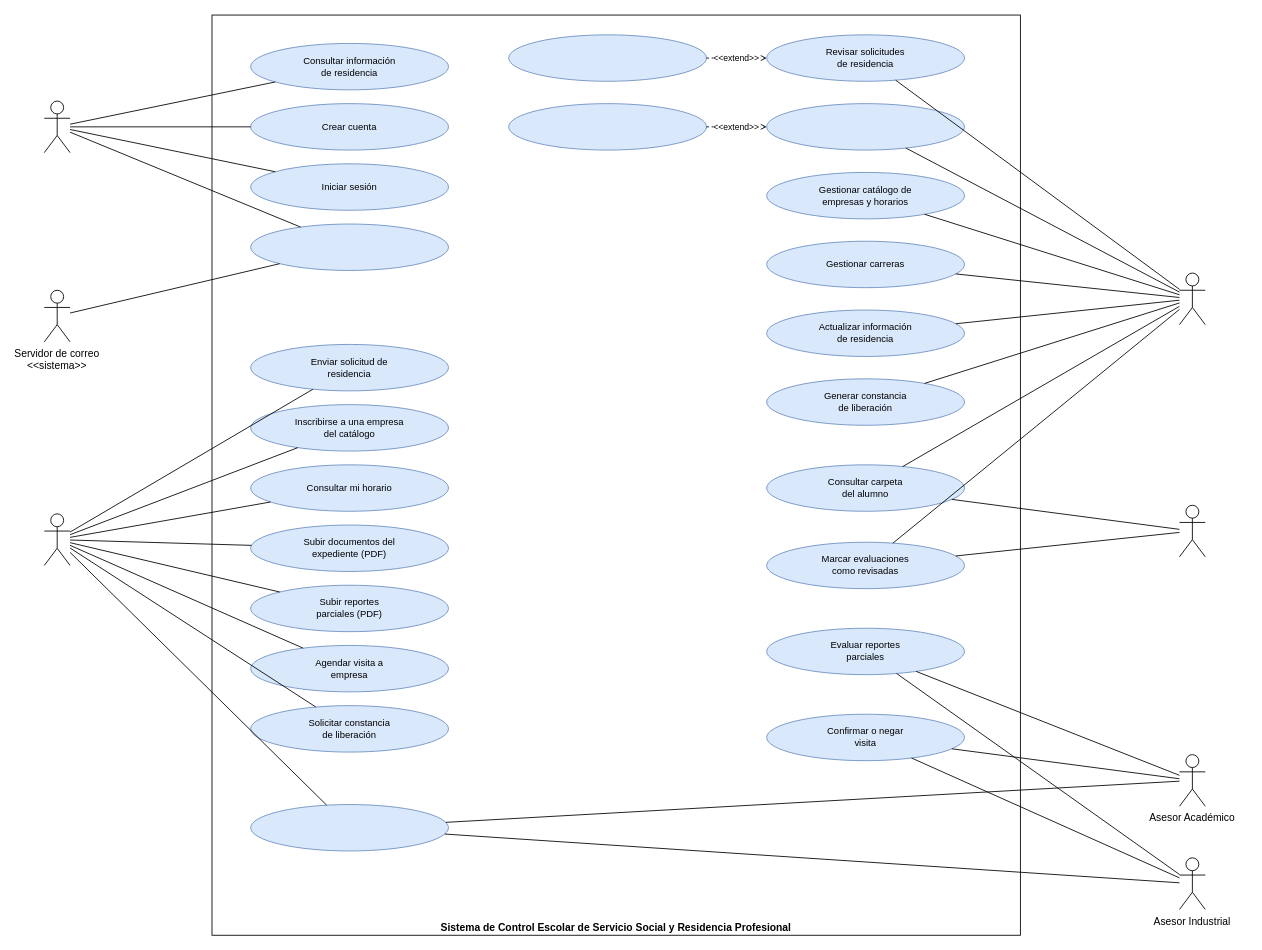
Some shapes in this 1262 by 950 pixel diagram are drawn without their labels. Each missing label, with the centre of its shape:
"Administrador (Depto. de Residencias)" goes at (x=1192, y=298).
"Alumno" goes at (x=56, y=539).
"Comentar observaciones de un documento" goes at (x=349, y=827).
"Generar carta de presentación" goes at (x=607, y=57).
"Gestionar usuarios" goes at (x=865, y=126).
"Importar usuarios desde Excel" goes at (x=607, y=126).
"Jefe de Carrera" goes at (x=1192, y=530).
"Recuperar contraseña" goes at (x=349, y=246).
"Visitante" goes at (x=56, y=126).
